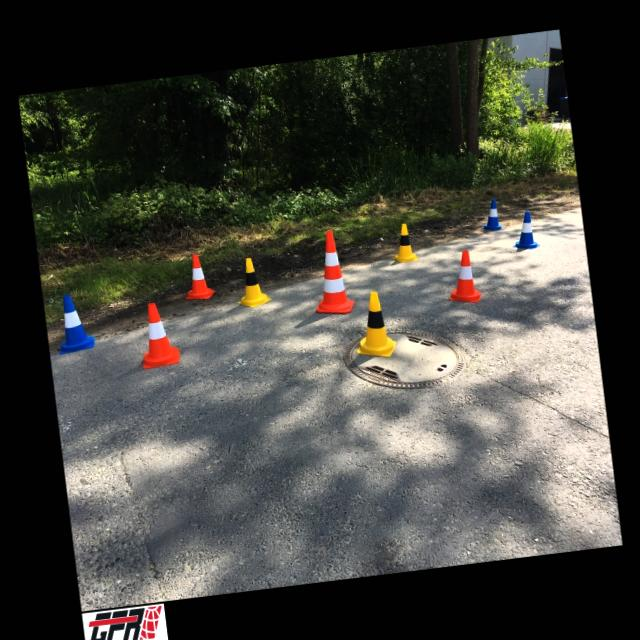blue_cone: (52, 292, 96, 353), (509, 210, 540, 252), (478, 198, 504, 232)
large_orange_cone: (306, 229, 355, 317)
orange_cone: (135, 300, 180, 369), (443, 248, 482, 306), (180, 252, 216, 300)
yellow_cone: (350, 290, 397, 360), (232, 256, 272, 308), (388, 222, 419, 262)
